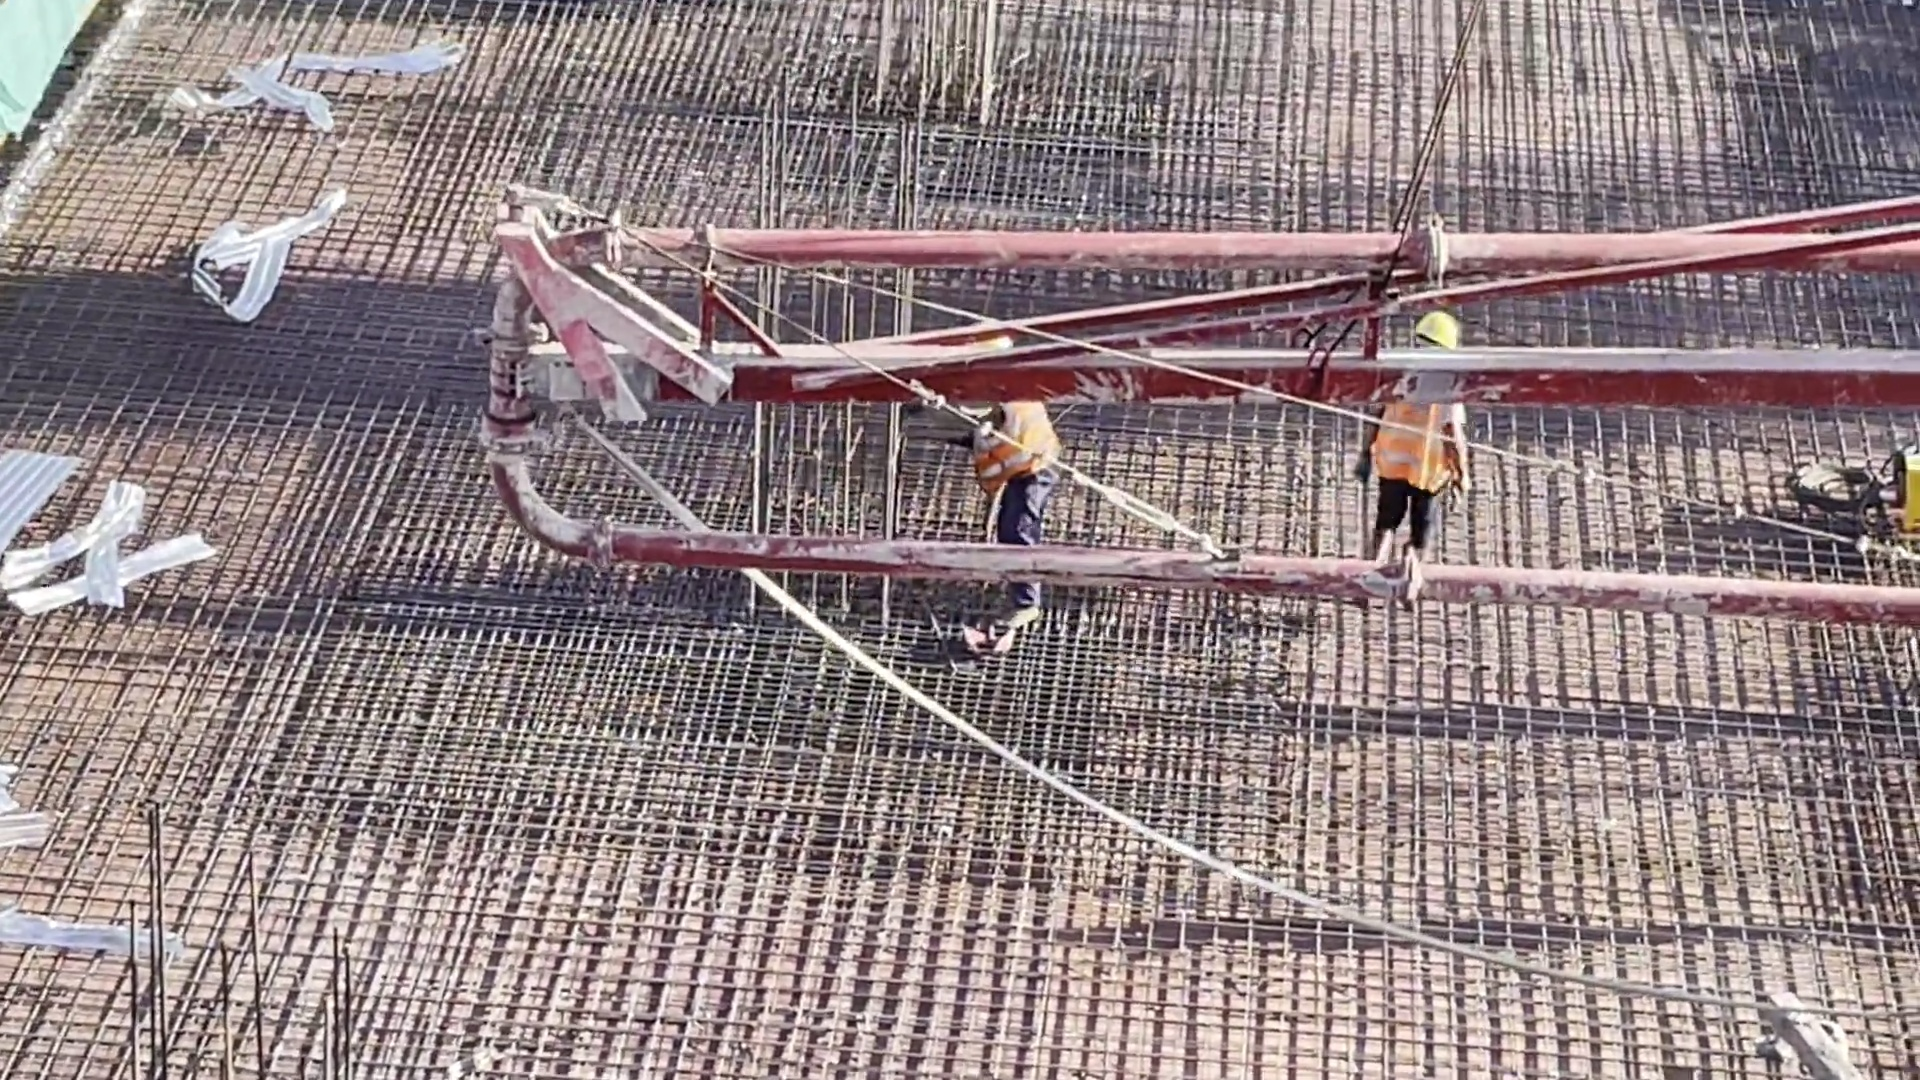helmet: (1415, 307, 1463, 351), (963, 323, 1012, 352)
person: (932, 322, 1076, 655), (1348, 304, 1463, 612)
vest: (1367, 404, 1457, 497), (969, 399, 1069, 483)
